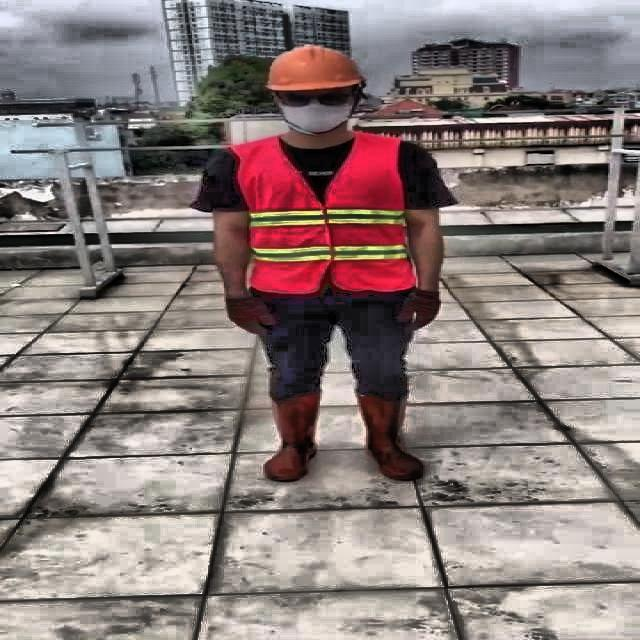safety_helmet: (258, 40, 378, 96)
safety_jacket: (240, 135, 414, 295)
